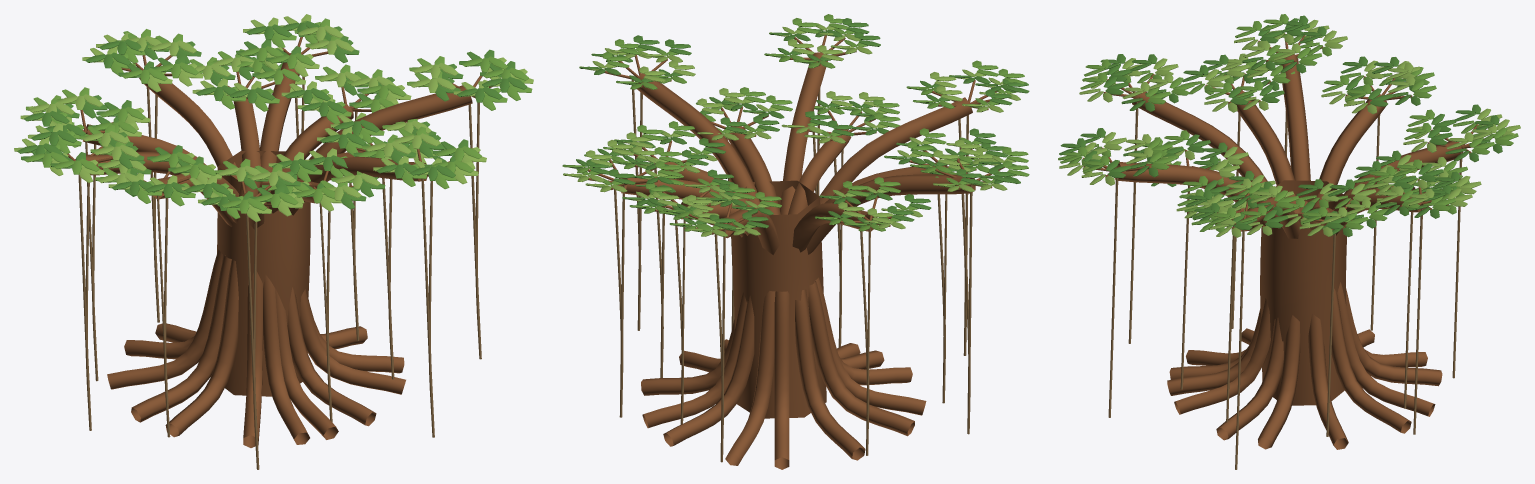
Rendered from LV_CAY_DA_01.glb.
The picture shows the model from 3 angles, left to right: view 1: azimuth 30°, elevation 25°; view 2: azimuth 150°, elevation 25°; view 3: azimuth 270°, elevation 25°; orthographic projection. The views are drawn at different scales.
Visible parts, largest first — view 1: LV_CAY_DA_01-surface-825331, branches-and-leaves-surface-53873a, branches-and-leaves-surface-6b9c41, branches-and-leaves-surface-88ad51, branches-and-leaves-surface-825331, LV_CAY_DA_01-surface-92734b; view 2: LV_CAY_DA_01-surface-825331, branches-and-leaves-surface-825331, branches-and-leaves-surface-53873a, branches-and-leaves-surface-6b9c41, branches-and-leaves-surface-88ad51, LV_CAY_DA_01-surface-92734b; view 3: LV_CAY_DA_01-surface-825331, branches-and-leaves-surface-53873a, branches-and-leaves-surface-88ad51, branches-and-leaves-surface-825331, branches-and-leaves-surface-6b9c41, LV_CAY_DA_01-surface-92734b.
Boxes of the visible parts, left/top/right/bottom form: LV_CAY_DA_01-surface-825331: left=107, top=151, right=405, bottom=447; branches-and-leaves-surface-53873a: left=17, top=21, right=527, bottom=210; branches-and-leaves-surface-6b9c41: left=24, top=18, right=532, bottom=218; branches-and-leaves-surface-88ad51: left=14, top=14, right=533, bottom=222; branches-and-leaves-surface-825331: left=67, top=37, right=500, bottom=229; LV_CAY_DA_01-surface-92734b: left=78, top=76, right=481, bottom=469; LV_CAY_DA_01-surface-825331: left=641, top=180, right=926, bottom=469; branches-and-leaves-surface-825331: left=588, top=35, right=1004, bottom=254; branches-and-leaves-surface-53873a: left=563, top=18, right=1029, bottom=229; branches-and-leaves-surface-6b9c41: left=562, top=14, right=1029, bottom=232; branches-and-leaves-surface-88ad51: left=563, top=23, right=1020, bottom=236; LV_CAY_DA_01-surface-92734b: left=614, top=79, right=972, bottom=462; LV_CAY_DA_01-surface-825331: left=1167, top=180, right=1442, bottom=449; branches-and-leaves-surface-53873a: left=1059, top=15, right=1502, bottom=237; branches-and-leaves-surface-88ad51: left=1059, top=19, right=1520, bottom=237; branches-and-leaves-surface-825331: left=1082, top=33, right=1493, bottom=238; branches-and-leaves-surface-6b9c41: left=1058, top=14, right=1518, bottom=232; LV_CAY_DA_01-surface-92734b: left=1108, top=102, right=1462, bottom=469.
Bounding box in the file's own units: 10.04 × 5.98 × 9.16.
